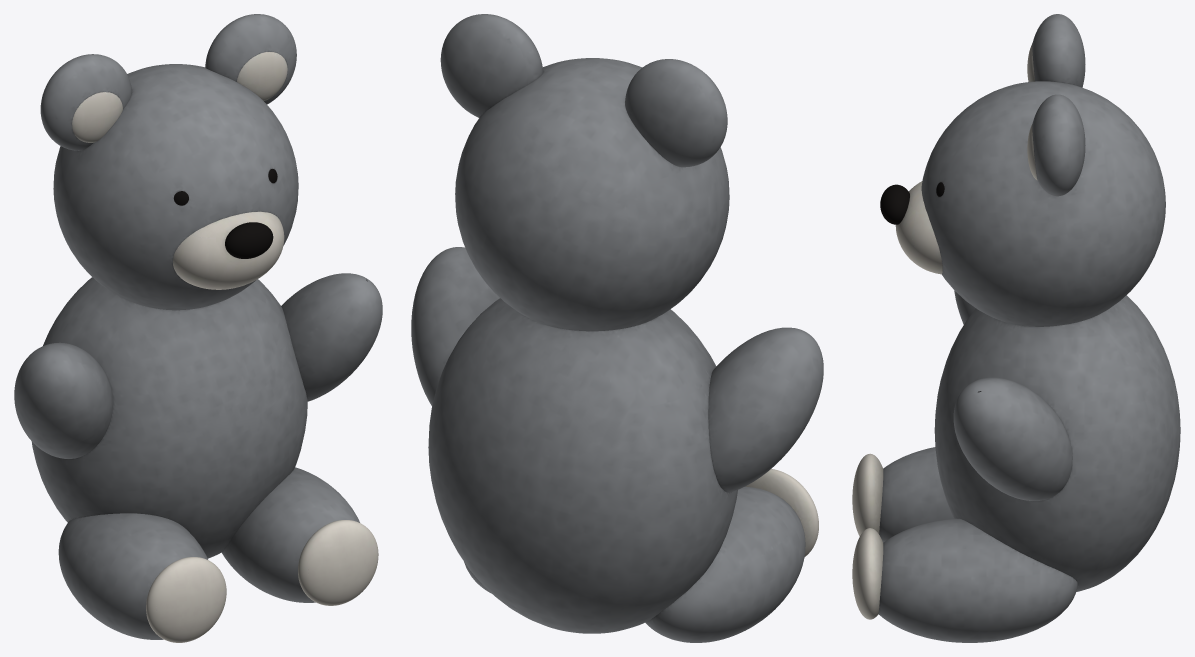
The model's file is grey-small.glb.
3 views of the same model, side by side, from view 1: azimuth 30°, elevation 25°; view 2: azimuth 150°, elevation 25°; view 3: azimuth 270°, elevation 25° (orthographic). The views are drawn at different scales.
Visible parts, largest first — view 1: fur_primary, fur_pad, eye_black; view 2: fur_primary, fur_pad; view 3: fur_primary, fur_pad, eye_black.
Part boxes in pixels (x1,y1,x2,y2): fur_primary: (14, 14, 382, 639); fur_pad: (72, 52, 378, 642); eye_black: (174, 169, 277, 258); fur_primary: (411, 14, 823, 642); fur_pad: (745, 469, 818, 557); fur_primary: (878, 14, 1180, 642); fur_pad: (852, 44, 1037, 619); eye_black: (880, 182, 944, 224).
Bounding box in the file's own units: 0.1952 × 0.2851 × 0.1568.
Materials: 3 (2 with a texture image).
